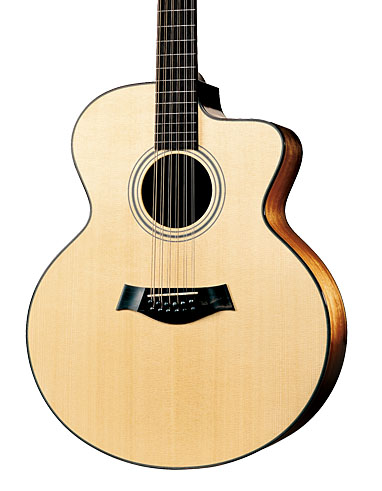guitar: (24, 1, 350, 471)
